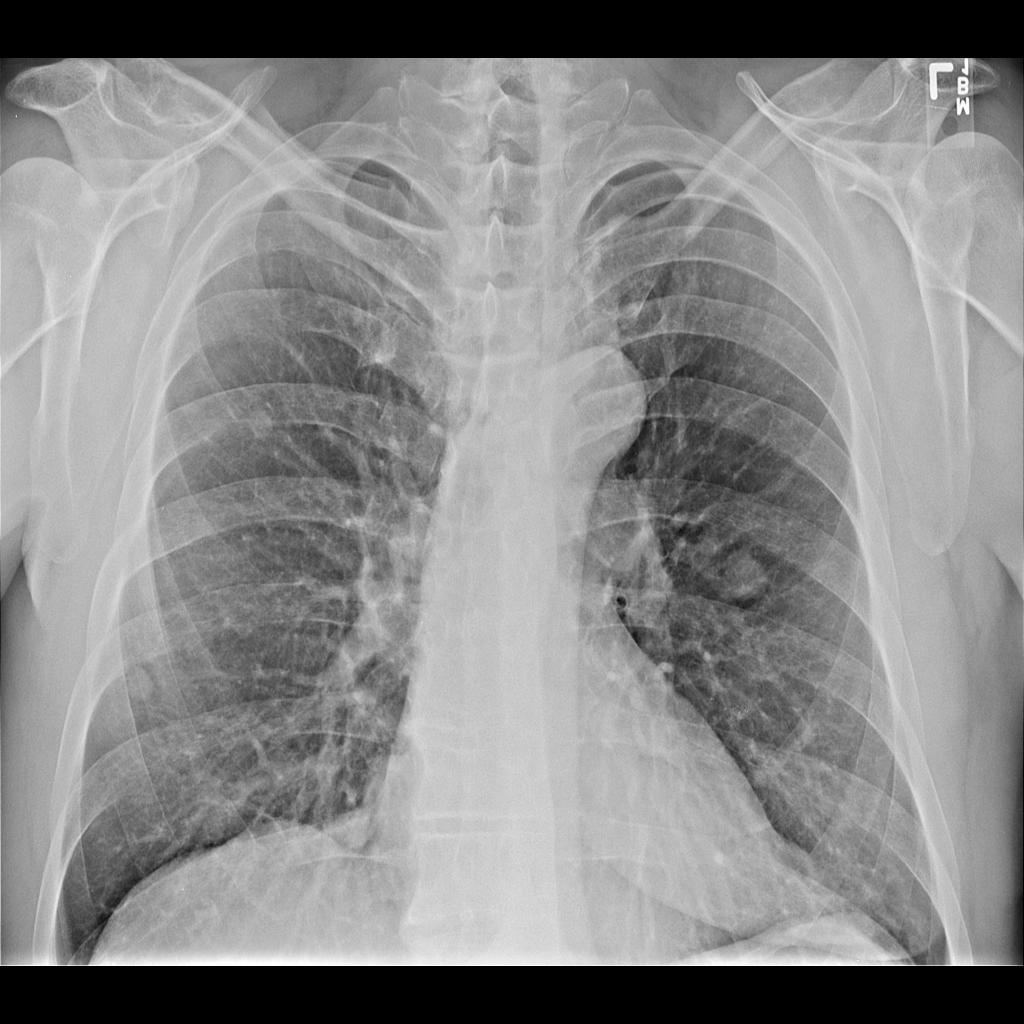Nodule: (711, 542, 775, 609), (242, 404, 286, 448), (123, 663, 160, 715)
